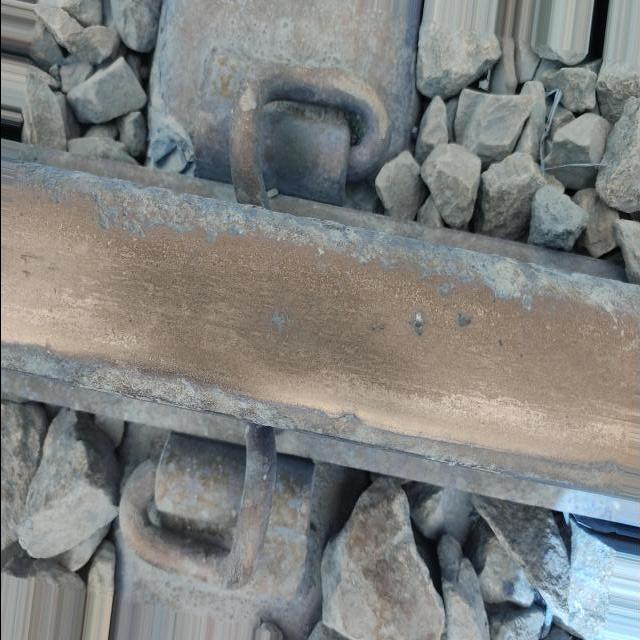squats_high: (410, 307, 426, 339), (457, 310, 473, 333), (271, 308, 285, 330), (441, 278, 454, 300)
